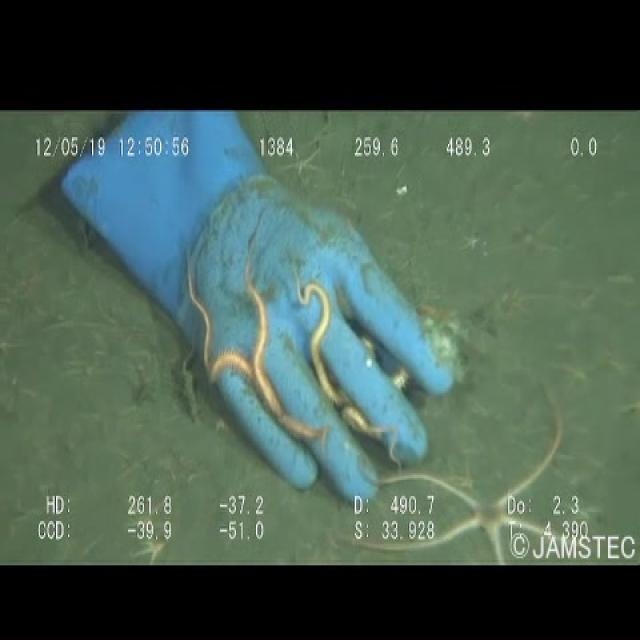plastic: (55, 112, 462, 508)
